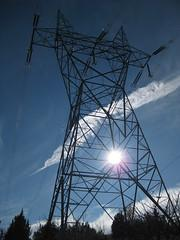power_tower: (25, 5, 180, 239)
